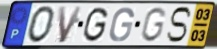G: (138, 6, 168, 44), (82, 6, 110, 44), (108, 6, 136, 43)
O: (26, 5, 57, 45)
S: (165, 6, 193, 45)
V: (57, 5, 85, 45)
